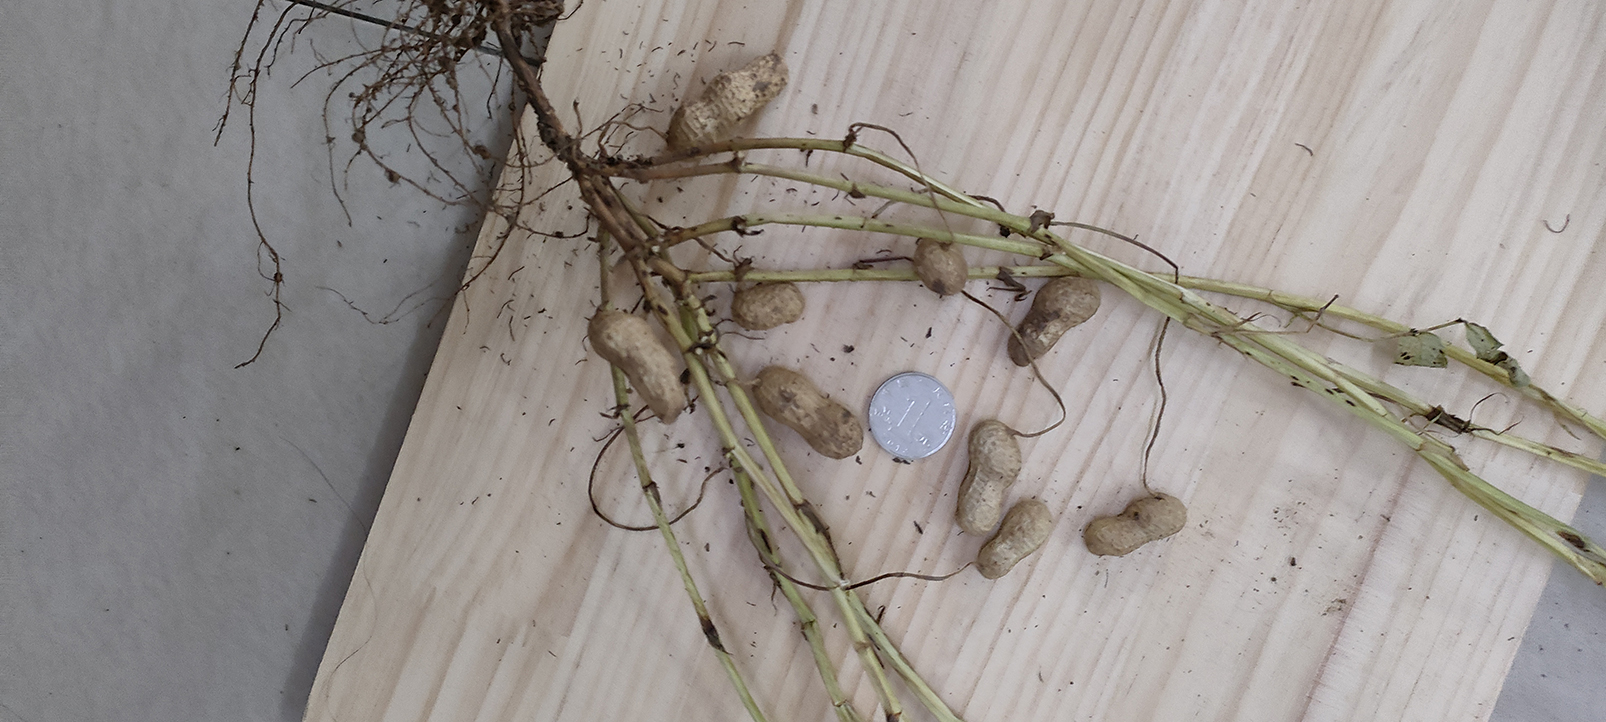h: (668, 50, 790, 153), (588, 309, 687, 425), (754, 368, 865, 459), (955, 419, 1023, 534), (1083, 495, 1187, 557), (977, 500, 1052, 581), (733, 282, 807, 329), (912, 237, 969, 294)
l: (1008, 277, 1102, 367)
